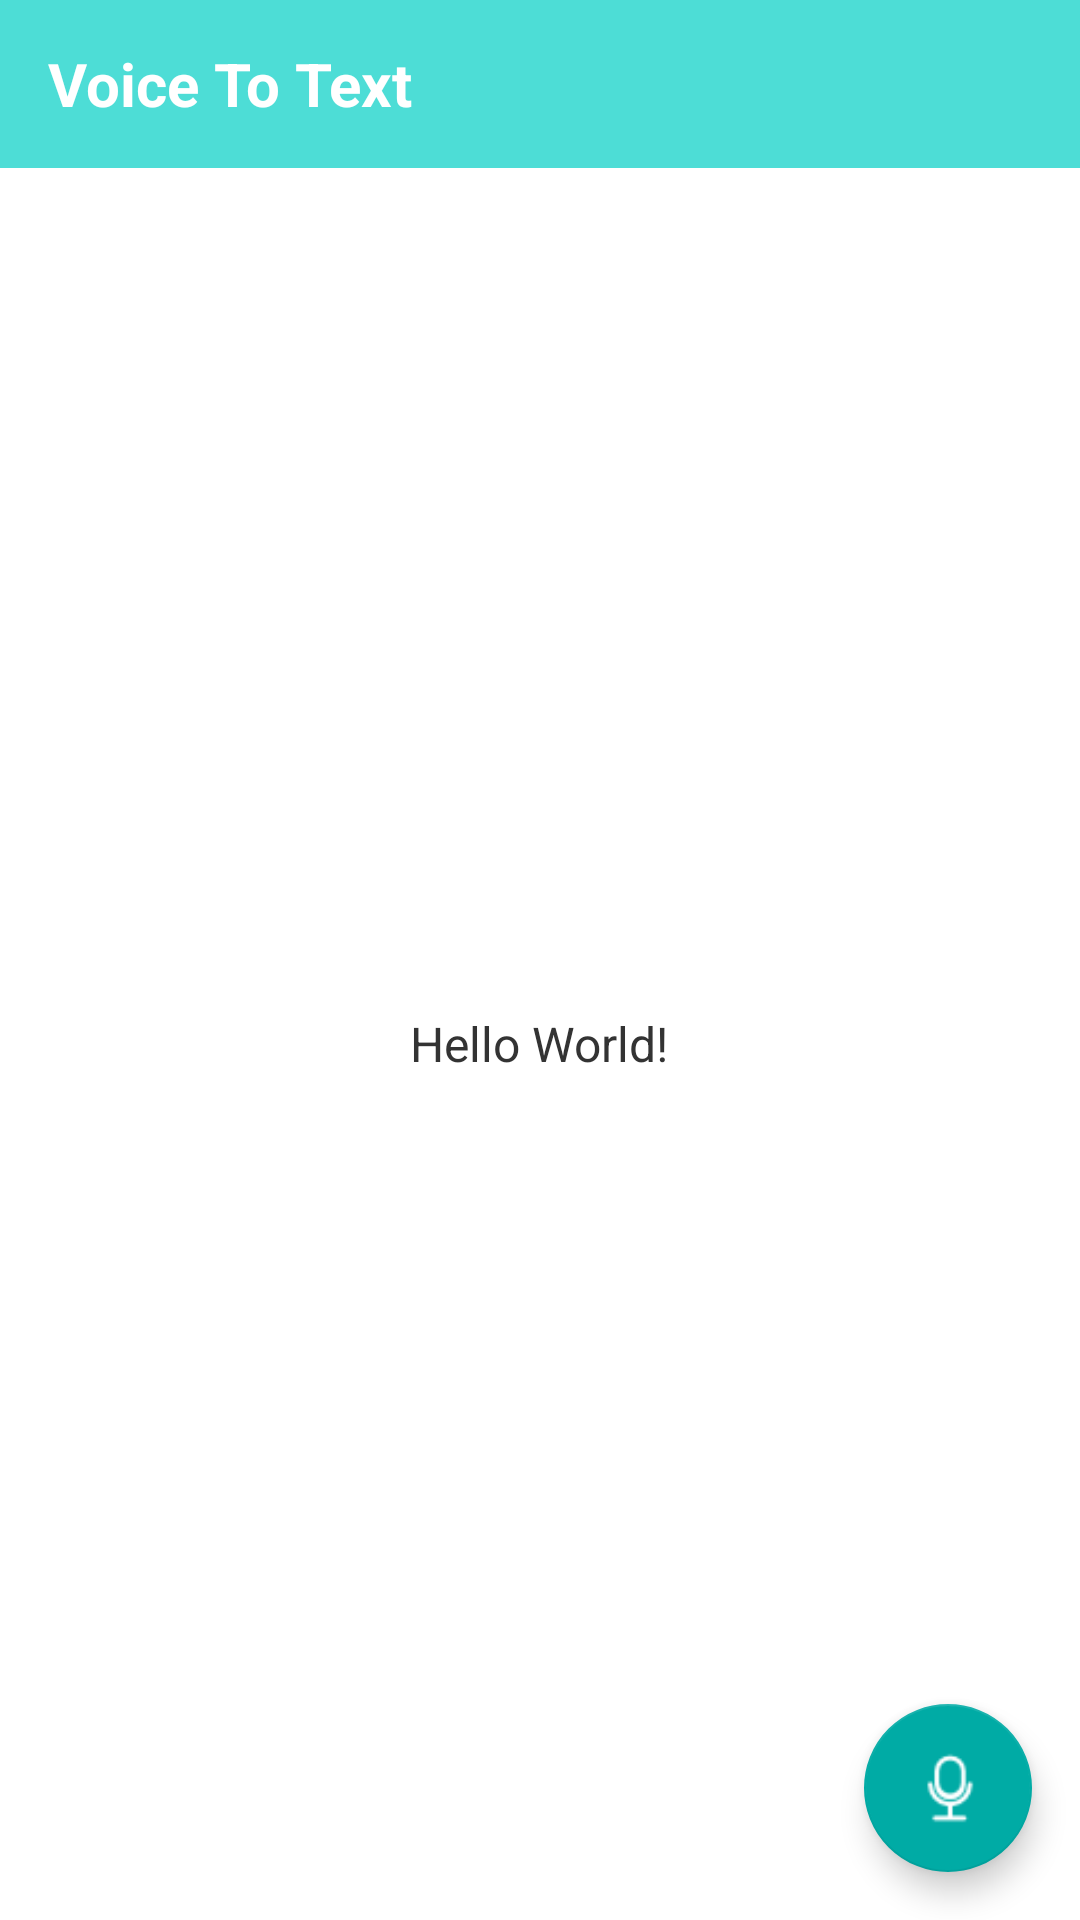

Icons on this 1080 x 1920 Android screen, each with the point to tap as point (x, y):
record: point (948, 1788)
